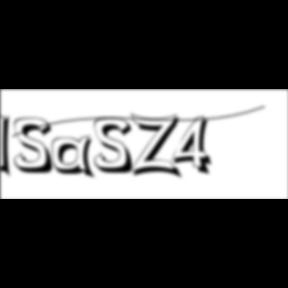4: (172, 115, 218, 179)
S: (14, 117, 60, 176), (94, 117, 140, 176)
Z: (131, 112, 186, 181)
a: (52, 135, 100, 182)
l: (1, 108, 18, 182)
